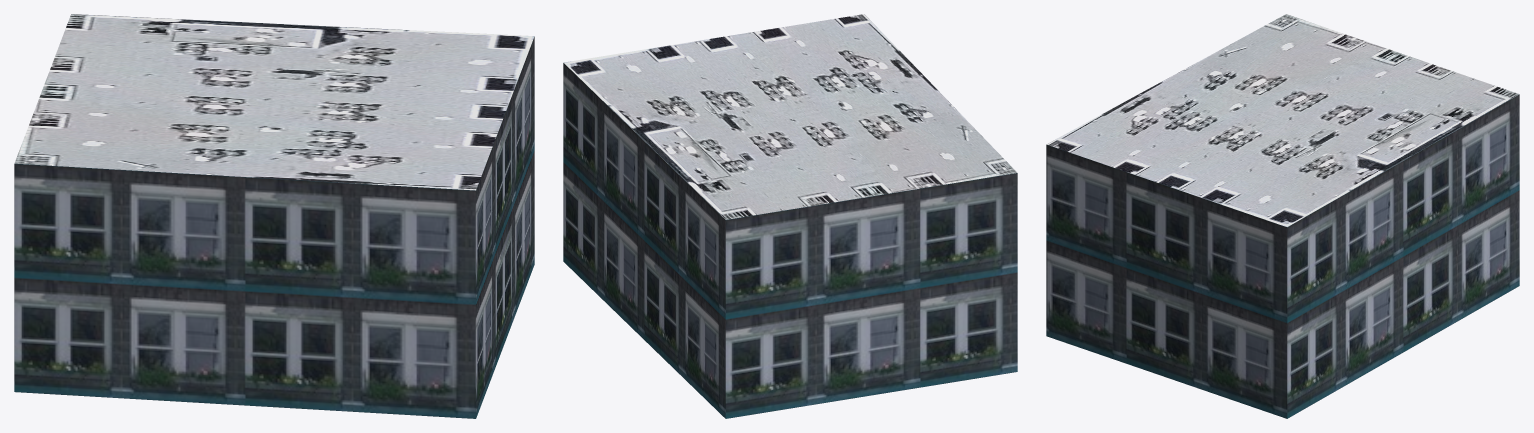
File: ResTex__1159.fbx
The picture shows the model from 3 angles, left to right: view 1: azimuth 30°, elevation 25°; view 2: azimuth 150°, elevation 25°; view 3: azimuth 270°, elevation 25°; orthographic projection. The views are drawn at different scales.
Visible parts, largest first — view 1: CityEngineMaterial_11_m, CityEngineMaterial_2_m; view 2: CityEngineMaterial_11_m, CityEngineMaterial_2_m; view 3: CityEngineMaterial_11_m, CityEngineMaterial_2_m.
Part boxes in pixels (box(x1,y1,x2,y2)): CityEngineMaterial_11_m: box(14, 37, 534, 418); CityEngineMaterial_2_m: box(14, 14, 534, 190); CityEngineMaterial_11_m: box(563, 63, 1017, 418); CityEngineMaterial_2_m: box(564, 14, 1017, 219); CityEngineMaterial_11_m: box(1046, 94, 1519, 418); CityEngineMaterial_2_m: box(1046, 14, 1519, 226).
Bounding box in the file's own units: 14.32 × 6 × 13.43.
2 materials, 2 textured.
